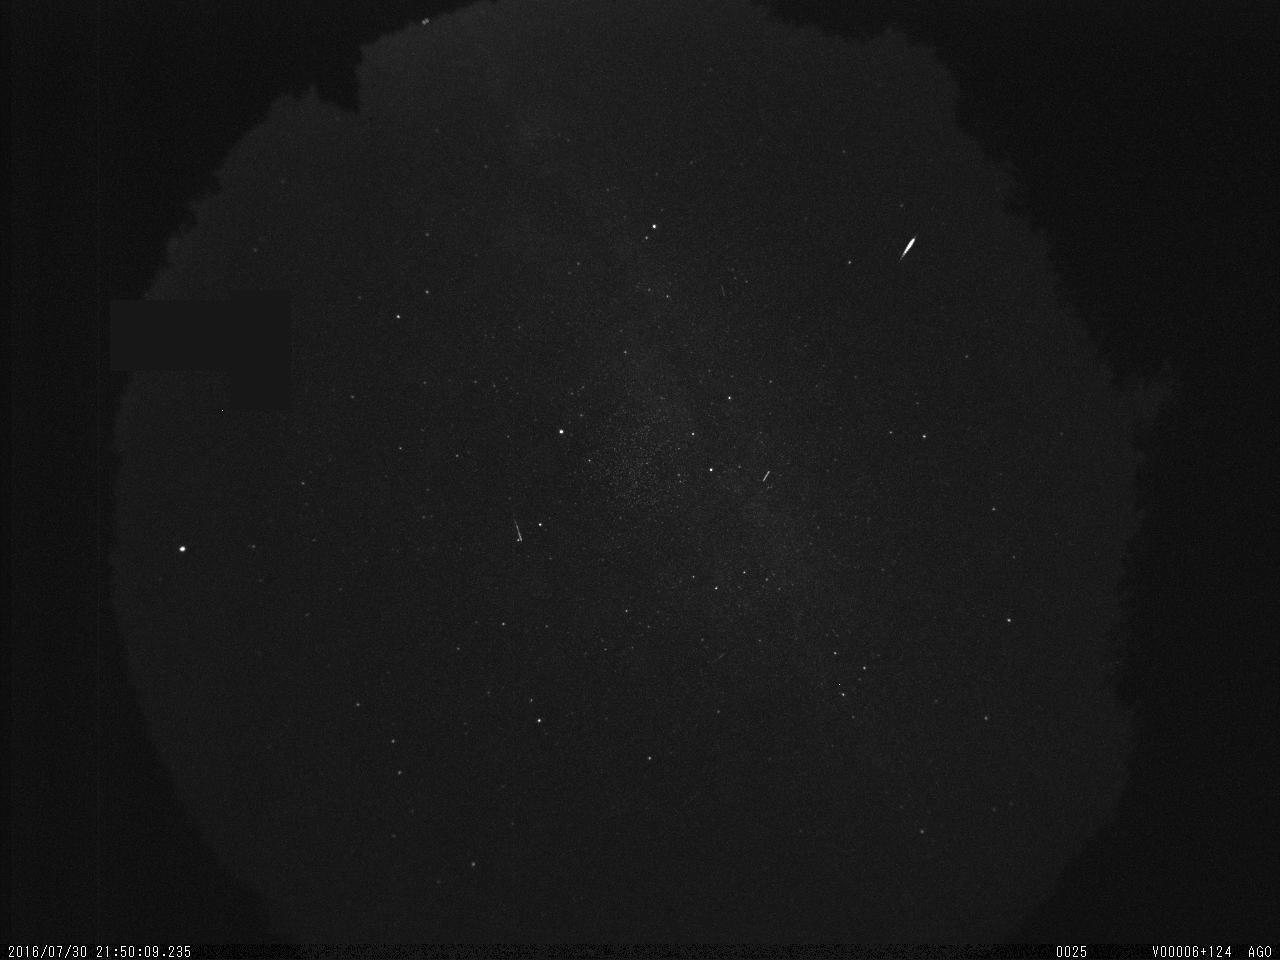Meteor: (897, 230, 920, 269)
